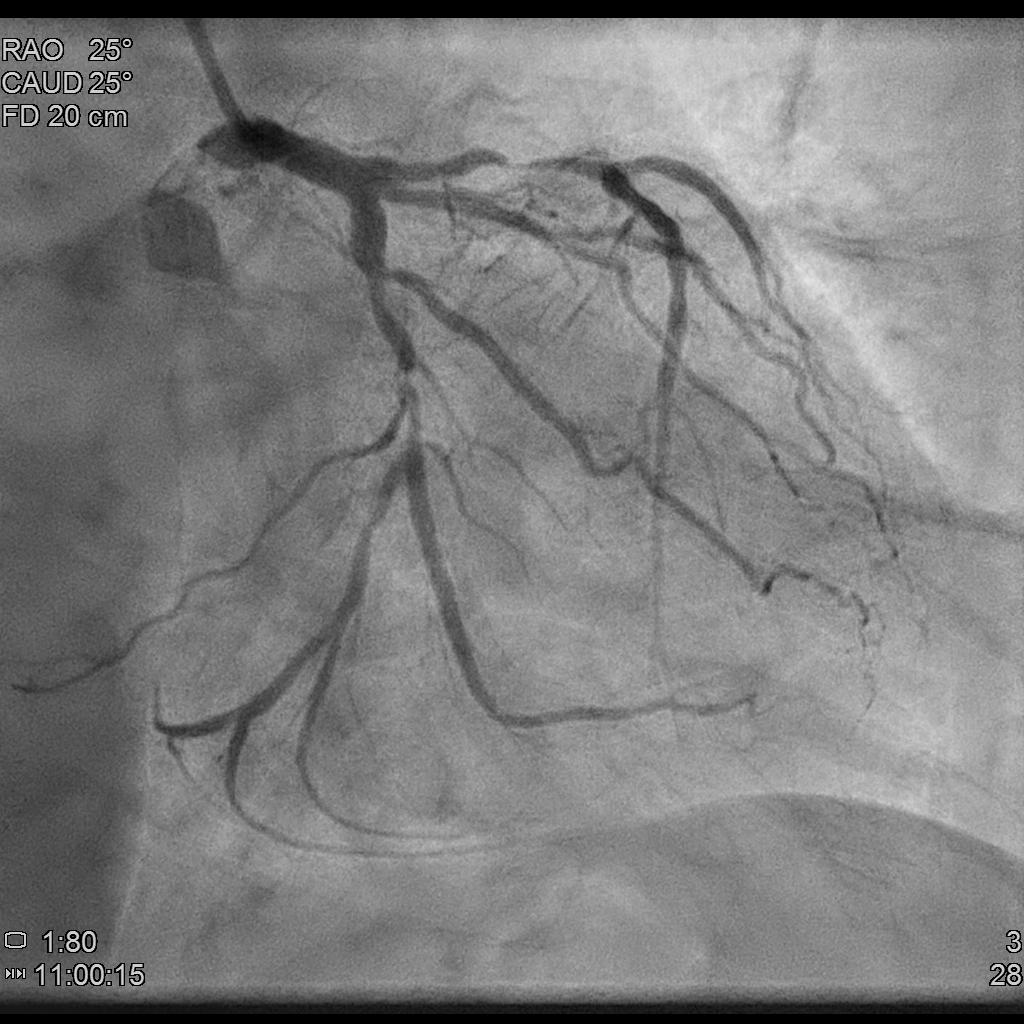block: (368, 338, 444, 425)
